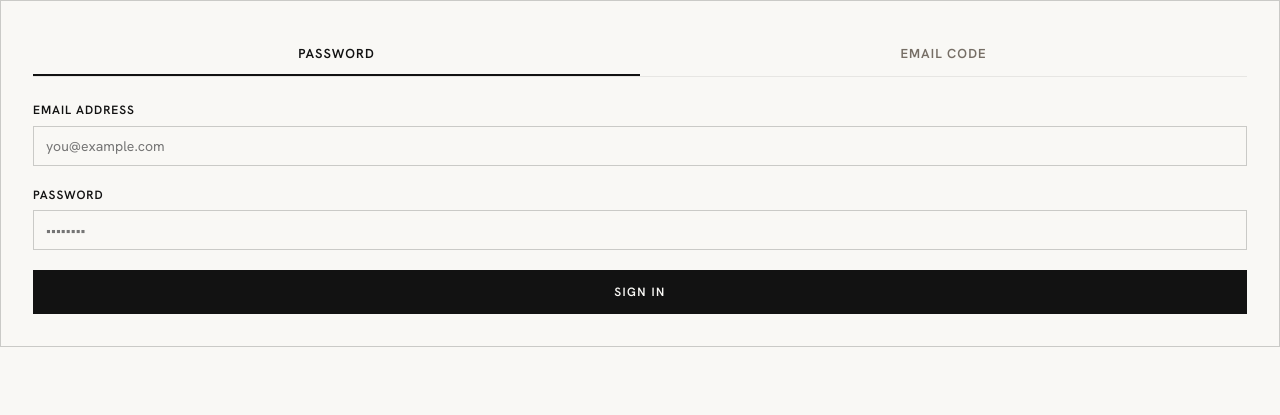
Test: SignInForm Component › displays error on invalid access code
The image size is (1280, 415).
Click the tab with test id "tab-code".
click(944, 54)  # box [640, 33, 1247, 76]
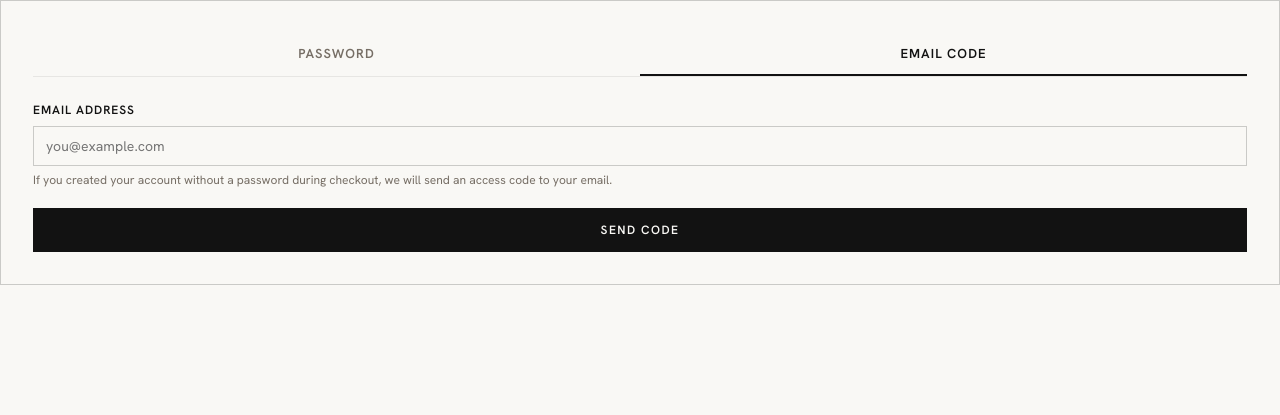
Type "shopper@example.com" into the field with test id "code-email-input".
click(640, 146); type("shopper@example.com")  # box [33, 126, 1247, 166]
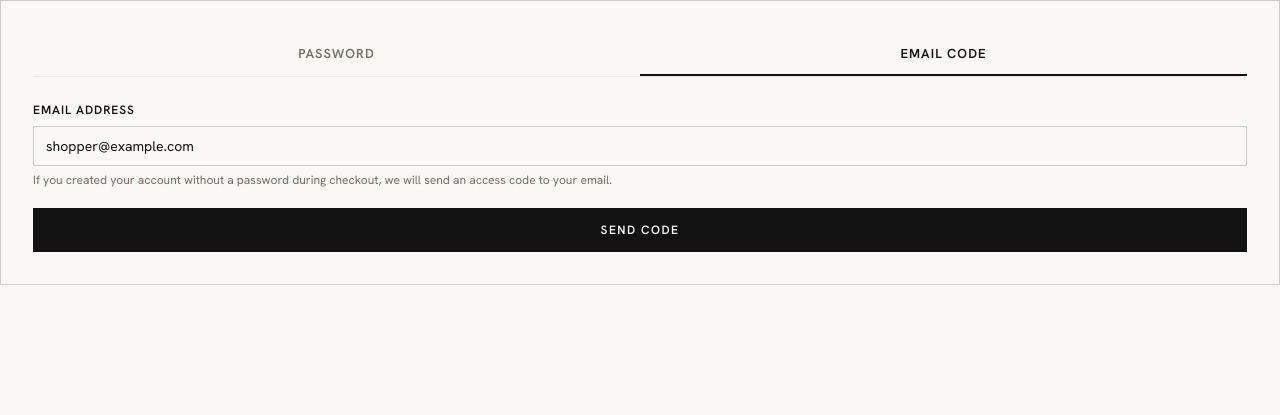
Click the button with test id "send-code-btn".
click(640, 230)  # box [33, 208, 1247, 252]
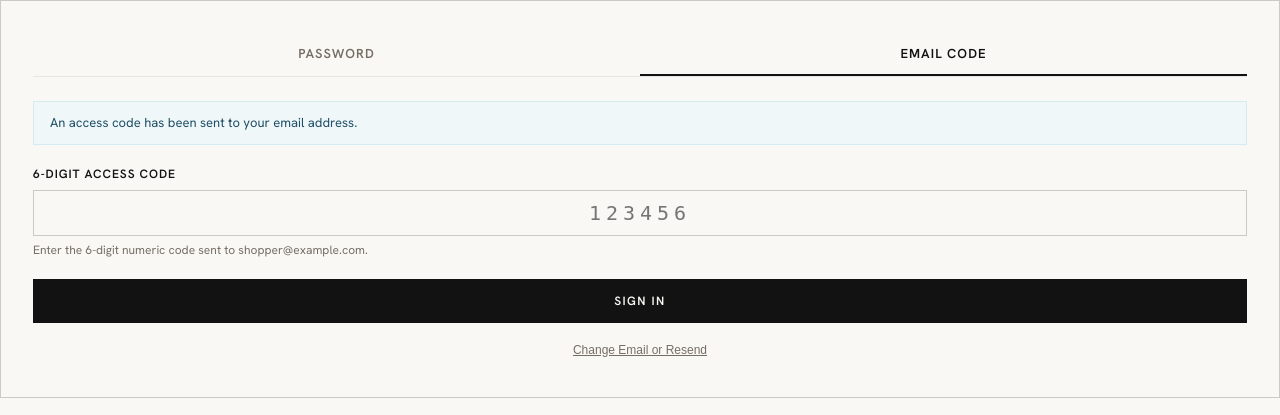
Result: the field with test id "code-input" is shown
Type "000000" into the field with test id "code-input".
click(640, 213); type("000000")  # box [33, 190, 1247, 236]
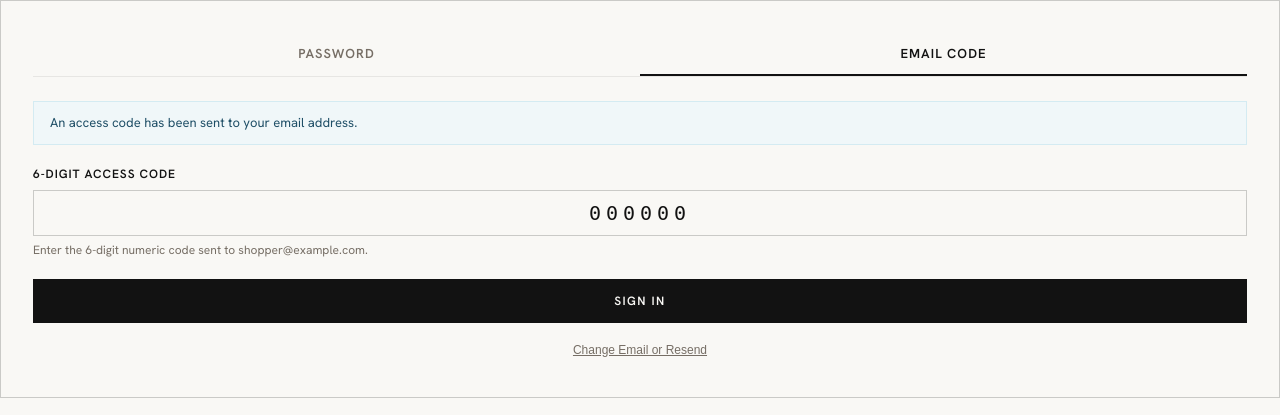
Click the button with test id "verify-code-btn".
click(640, 301)  # box [33, 279, 1247, 323]
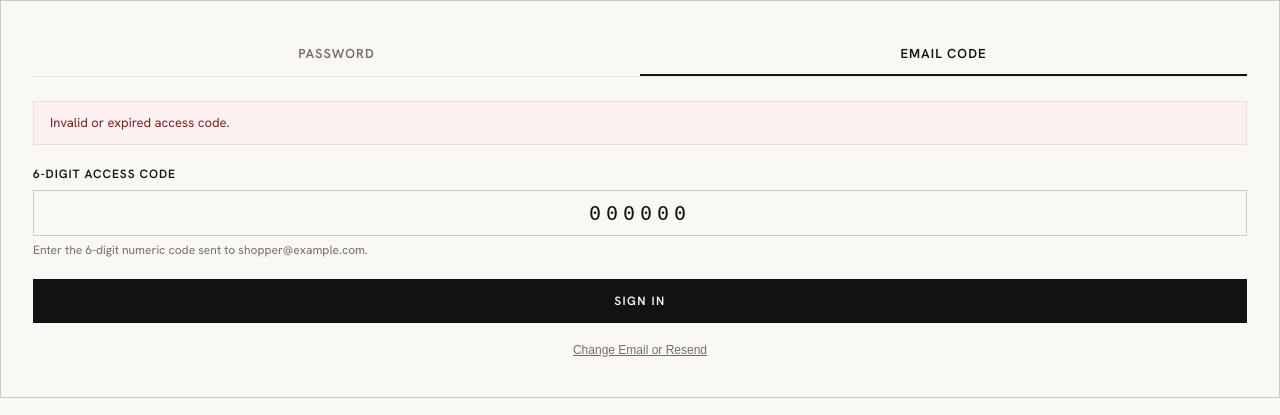
Result: the message with test id "signin-error" reads "Invalid or expired access code." at [50, 114, 230, 131]
